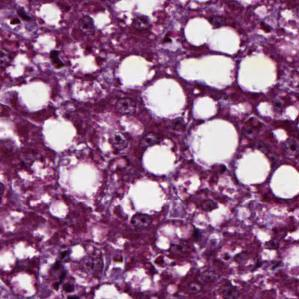steatosis: (141, 73, 190, 121), (194, 122, 240, 166)
